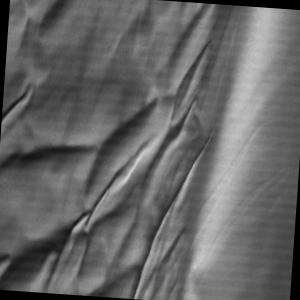Wrinkle: (1, 1, 276, 300)
